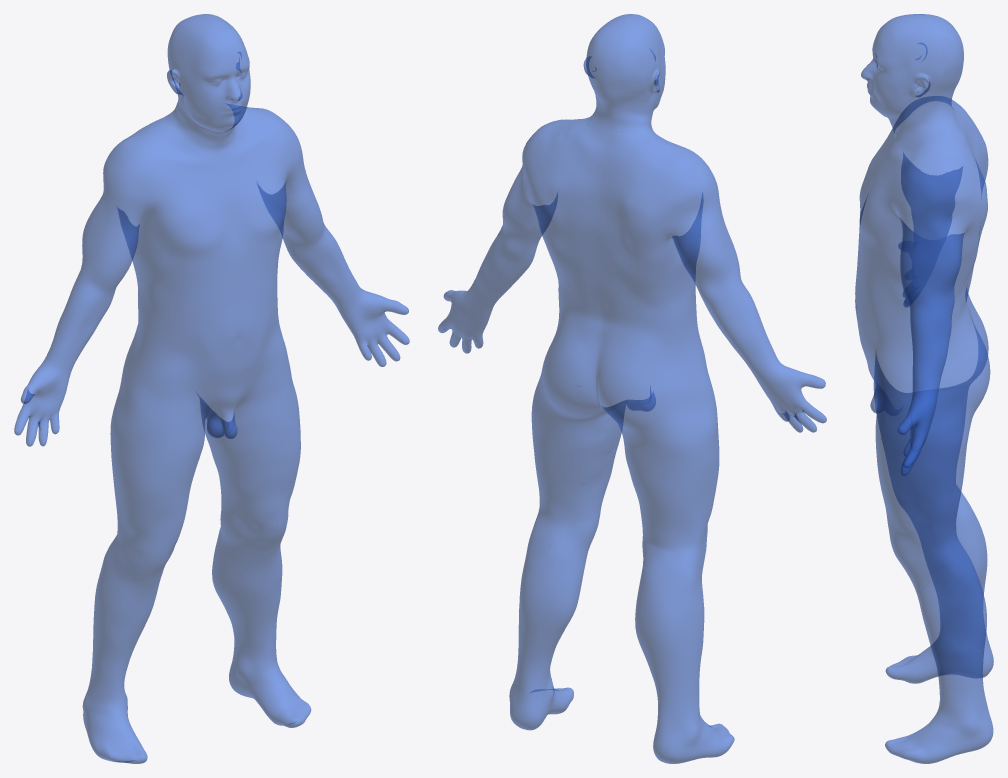
File: skin.glb
3 renders of one model, left to right at view 1: azimuth 30°, elevation 25°; view 2: azimuth 150°, elevation 25°; view 3: azimuth 270°, elevation 25°, orthographic. The views are drawn at different scales.
Bounding box in the file's own units: 1.04 × 1.82 × 0.3256.
